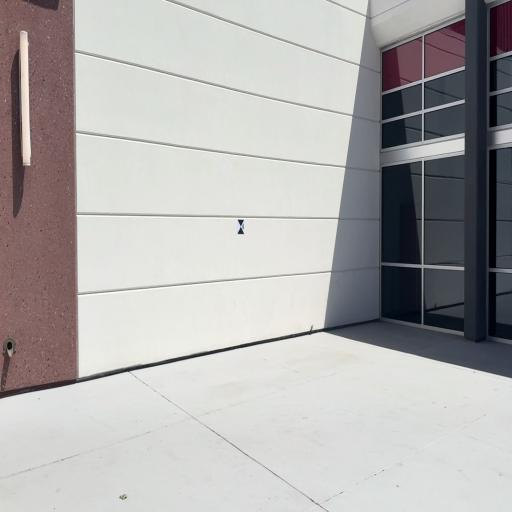target4: (237, 219, 245, 234)
